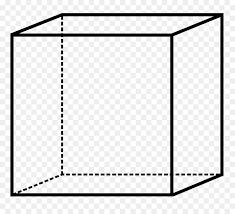cubos: (7, 8, 228, 198)
